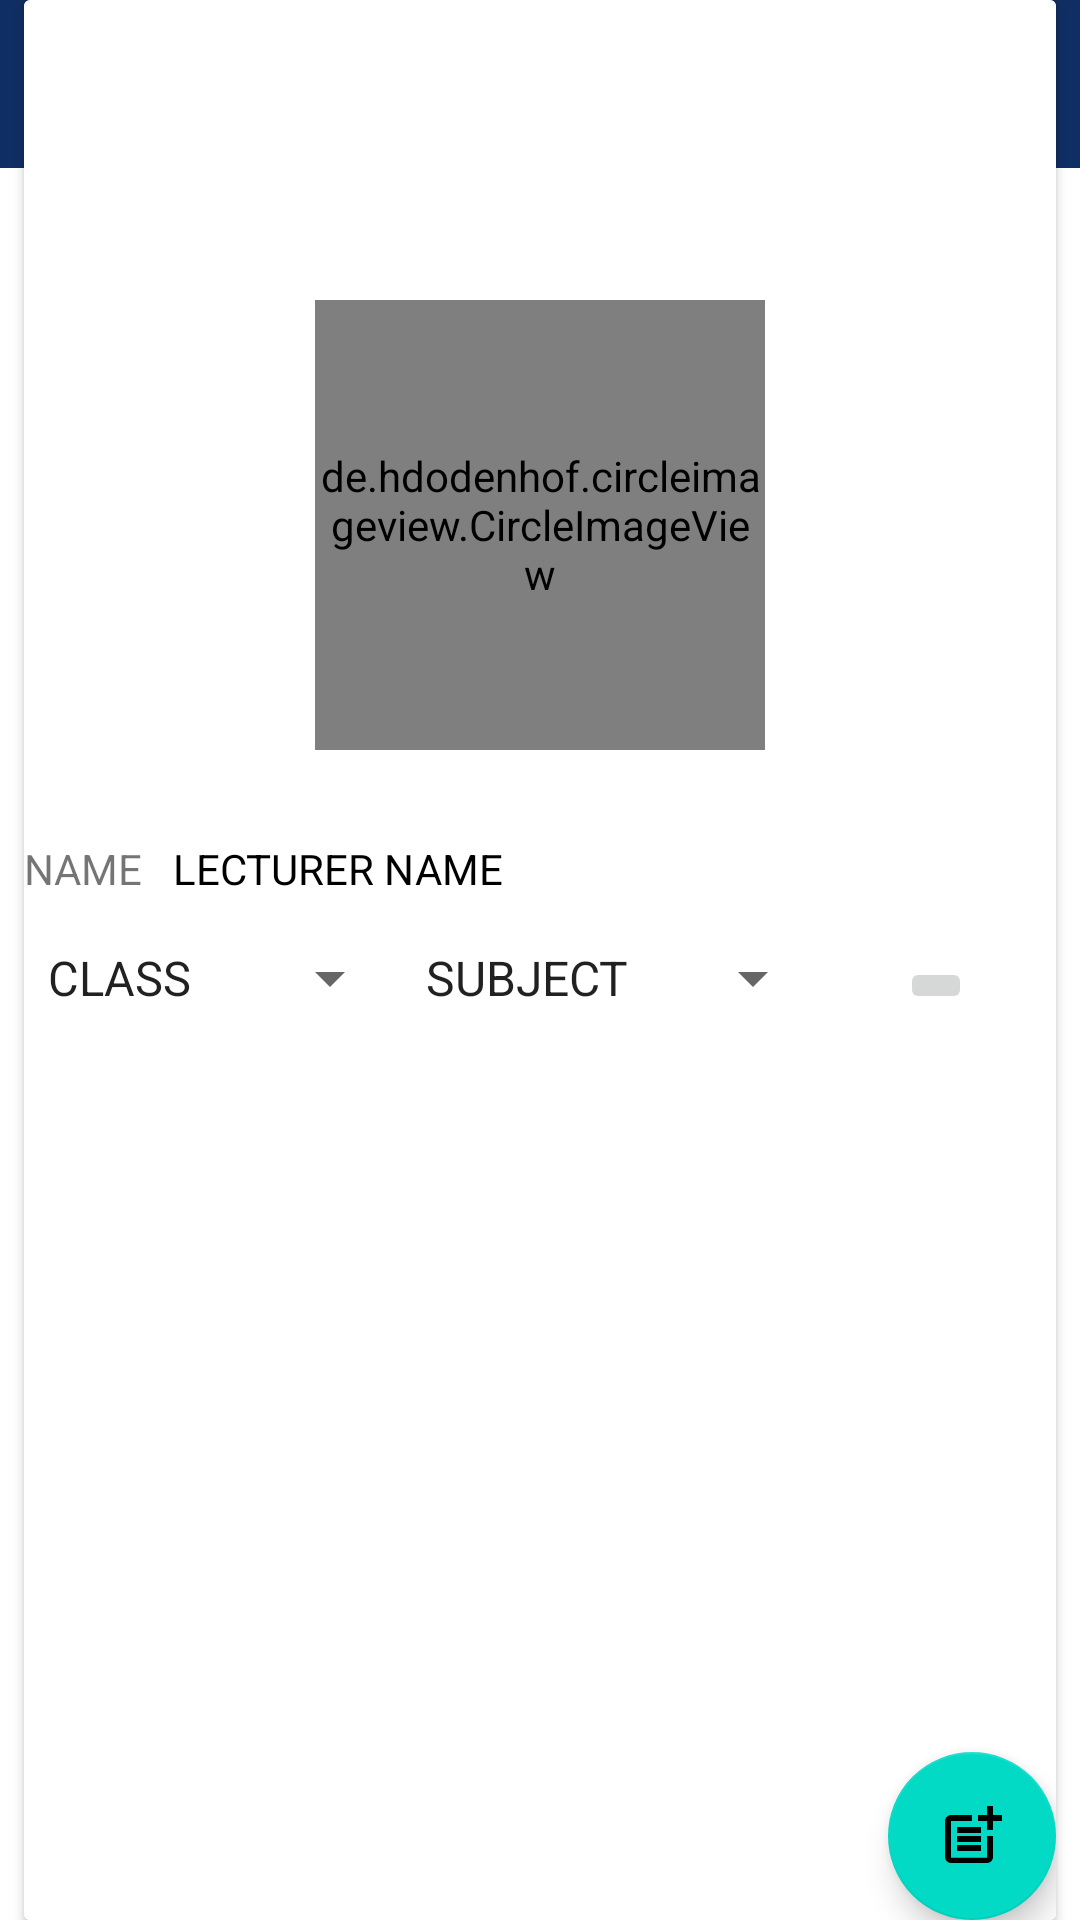

Screen size 1080 x 1920. Icon name, then its box in pixels as {"x1": x1, "y1": y1, "x2": x2, "y2": y2}:
post add: {"x1": 888, "y1": 1752, "x2": 1056, "y2": 1920}
